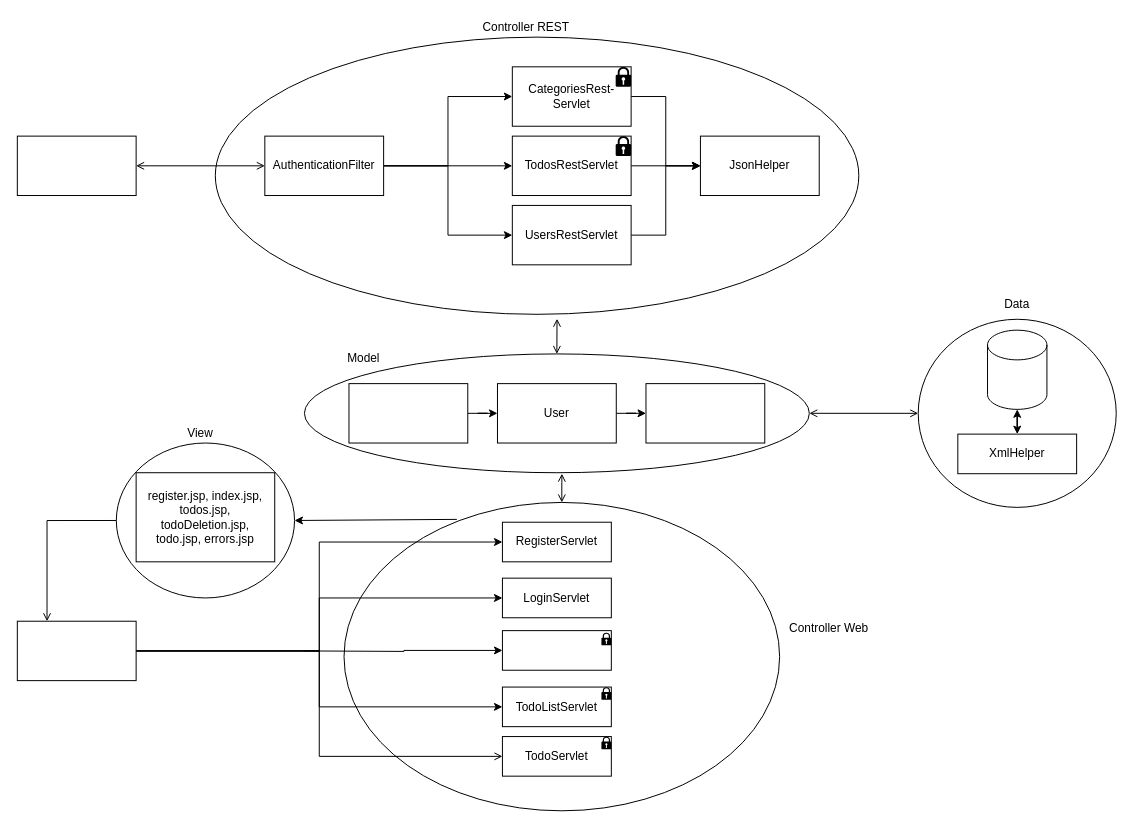
The diagram is 1134 pixels wide and 828 high, and some of its shapes have lost their labels. Here are the shapes that lost their labels. From the top down, the centre of each, then its label:
the point at 76,165: REST-Request
the point at 1017,369: Data.xml
the point at 408,413: UserManager
the point at 705,413: Todo
the point at 76,650: Browser
the point at 556,650: LogoutServlet
